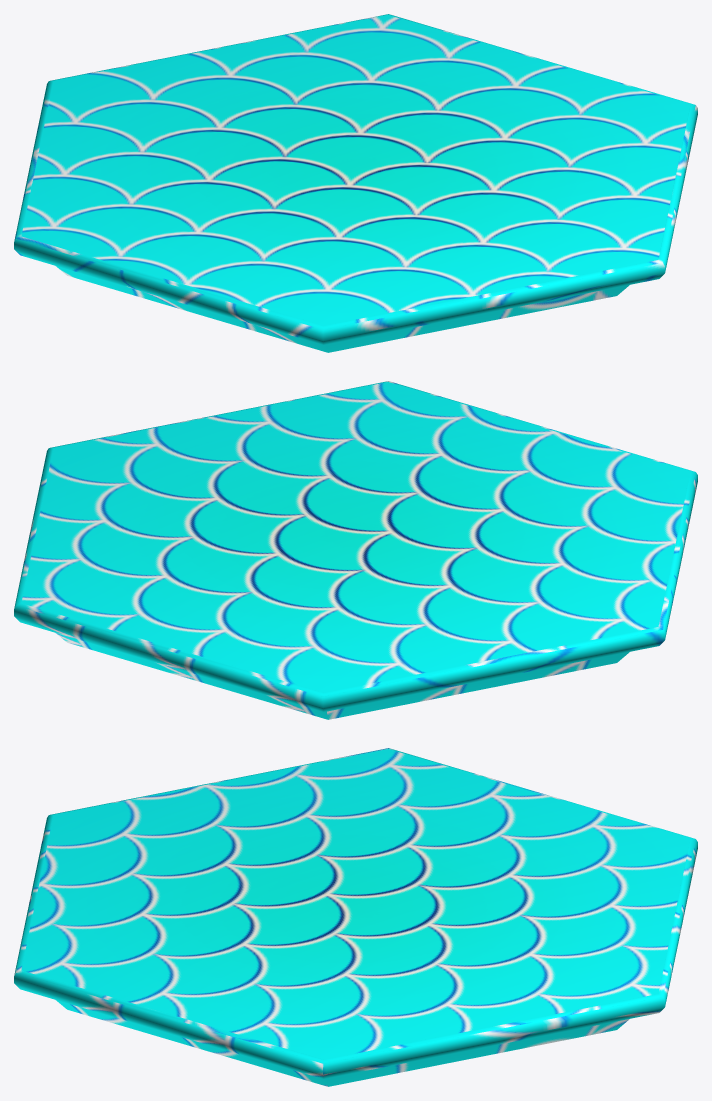
The model's file is AGUA HEXAGONO.fbx.
3 renders of one model, top to bottom at view 1: azimuth 30°, elevation 25°; view 2: azimuth 150°, elevation 25°; view 3: azimuth 270°, elevation 25°, orthographic.
Visible parts, largest first — view 1: Cylinder.005; view 2: Cylinder.005; view 3: Cylinder.005.
Part boxes in pixels (bbox=[...]): Cylinder.005: bbox=[14, 14, 697, 352]; Cylinder.005: bbox=[14, 381, 697, 719]; Cylinder.005: bbox=[14, 748, 697, 1086].
Bounding box in the file's own units: 199 × 14.13 × 181.
1 material, 1 textured.
